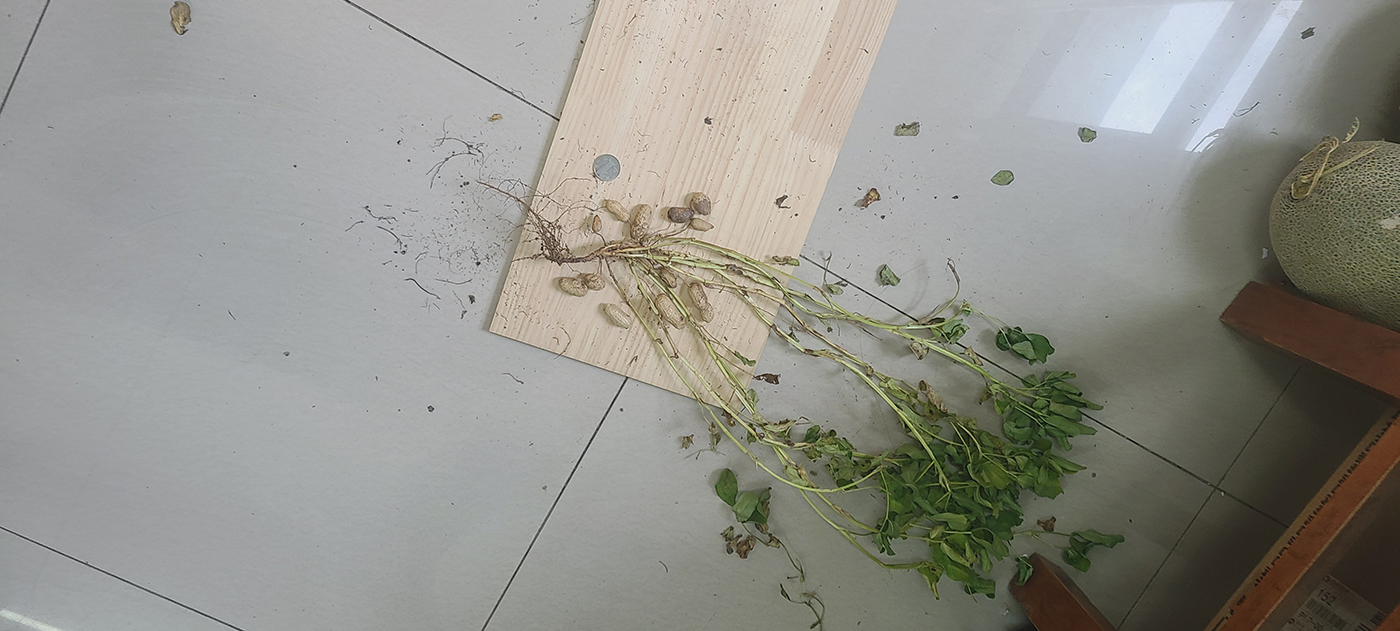h: (654, 294, 687, 330), (687, 282, 715, 323), (630, 204, 652, 240), (603, 303, 632, 330), (558, 277, 587, 298), (605, 200, 630, 222), (659, 267, 677, 288), (584, 273, 604, 291), (691, 218, 715, 232)
l: (691, 193, 713, 215), (668, 207, 694, 222)
